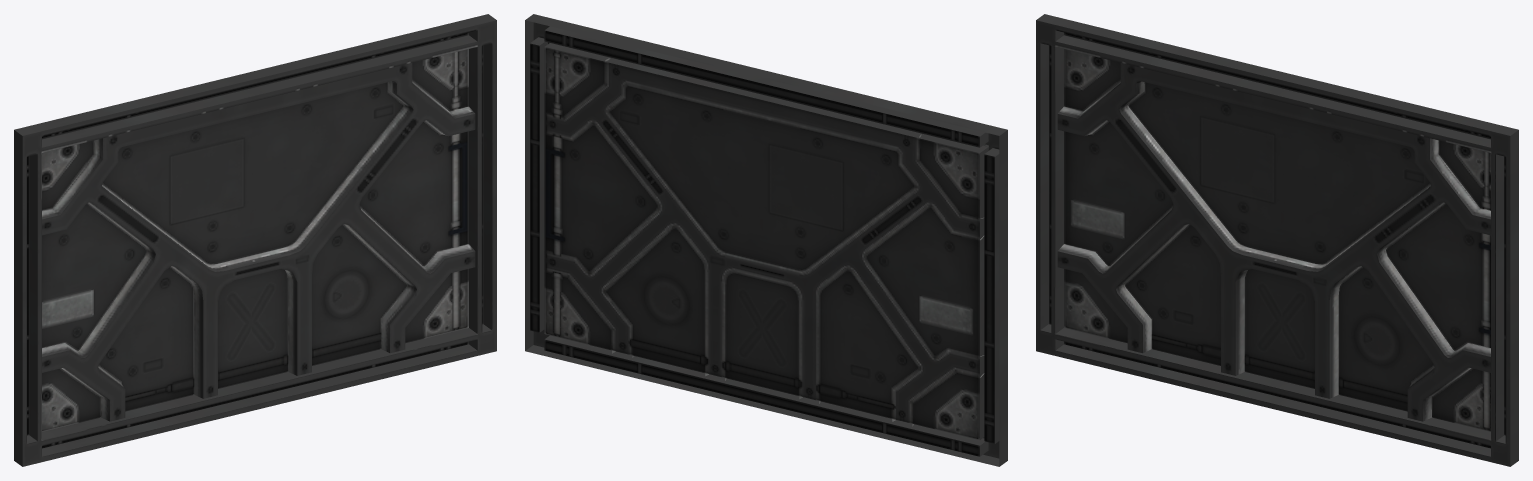
File: Panel_C_1x1,5_1_L2.FBX
The picture shows the model from 3 angles, left to right: view 1: azimuth 30°, elevation 25°; view 2: azimuth 150°, elevation 25°; view 3: azimuth 330°, elevation 25°; orthographic projection.
Visible parts, largest first — view 1: Panel_C_1x1,5_1_L2; view 2: Panel_C_1x1,5_1_L2; view 3: Panel_C_1x1,5_1_L2.
Boxes of the visible parts, x1=… form: Panel_C_1x1,5_1_L2: x1=14, y1=14, x2=496, y2=466; Panel_C_1x1,5_1_L2: x1=525, y1=14, x2=1007, y2=466; Panel_C_1x1,5_1_L2: x1=1036, y1=14, x2=1518, y2=466.
Size of the model in its own units: 150 by 100 by 4.67.
